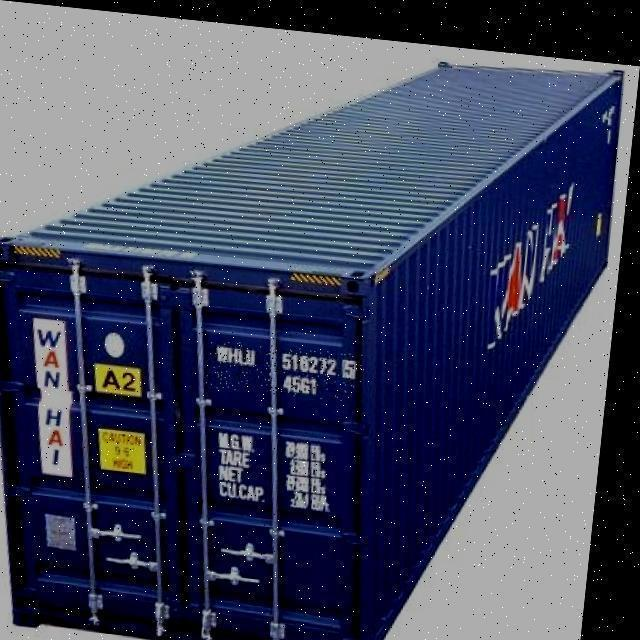ISO: (283, 376, 317, 396)
container_number: (210, 340, 361, 382)
